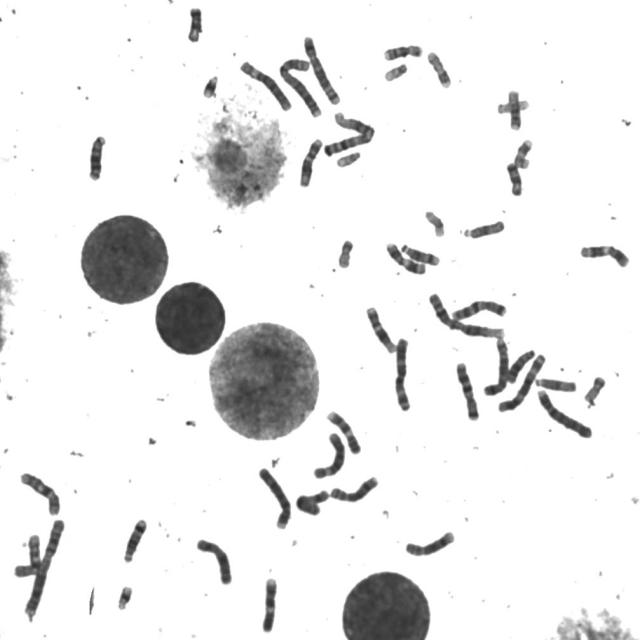A1: (425, 289, 507, 339), (320, 108, 377, 158)
A2: (20, 514, 66, 618), (275, 54, 324, 118)
A3: (494, 351, 548, 414), (391, 334, 413, 412)
B4: (533, 385, 594, 440), (254, 463, 293, 531)
B5: (300, 31, 342, 107), (480, 334, 510, 396)
C10: (15, 468, 62, 516), (8, 530, 48, 585)
C11: (382, 238, 428, 276), (577, 240, 631, 268)
C12: (362, 302, 397, 354), (296, 134, 324, 188)
C6: (236, 57, 293, 112), (310, 428, 347, 480)
C7: (452, 358, 481, 422), (448, 295, 509, 322)
C8: (402, 526, 457, 558), (327, 472, 380, 504)
C9: (323, 406, 362, 455), (257, 574, 279, 634)
D13: (504, 344, 539, 388), (84, 130, 108, 182)
D14: (120, 514, 148, 564), (398, 239, 442, 267)
D15: (460, 216, 506, 240), (531, 374, 578, 393)
E16: (501, 86, 524, 133), (380, 40, 424, 62)
E17: (423, 47, 453, 89), (511, 135, 534, 169)
E18: (502, 159, 524, 197), (184, 2, 204, 43)
F19: (421, 206, 446, 238), (493, 96, 531, 115)
F20: (580, 372, 608, 404), (334, 235, 356, 269)
G21: (198, 70, 220, 100), (113, 581, 134, 611)
G22: (380, 59, 409, 83), (333, 148, 362, 168)
X: (192, 534, 234, 586), (294, 485, 334, 521)
